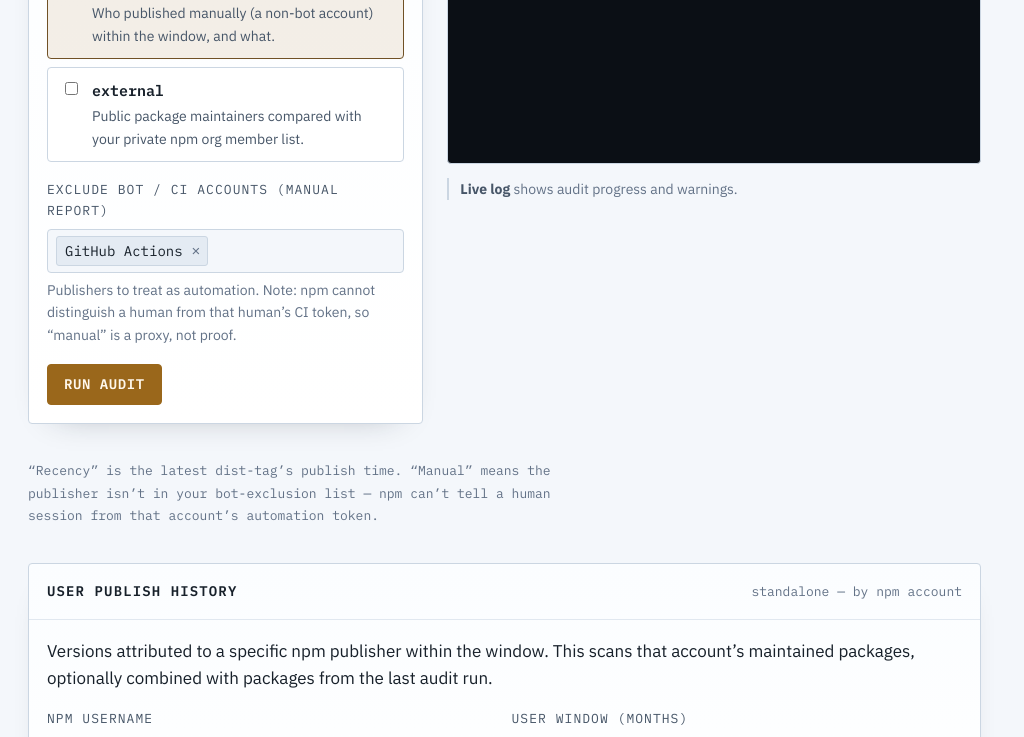
Test: App › validates required organizations before running
(page scrolled)
Click the button "Run audit". click: (104, 385)
box: [47,364,162,406]
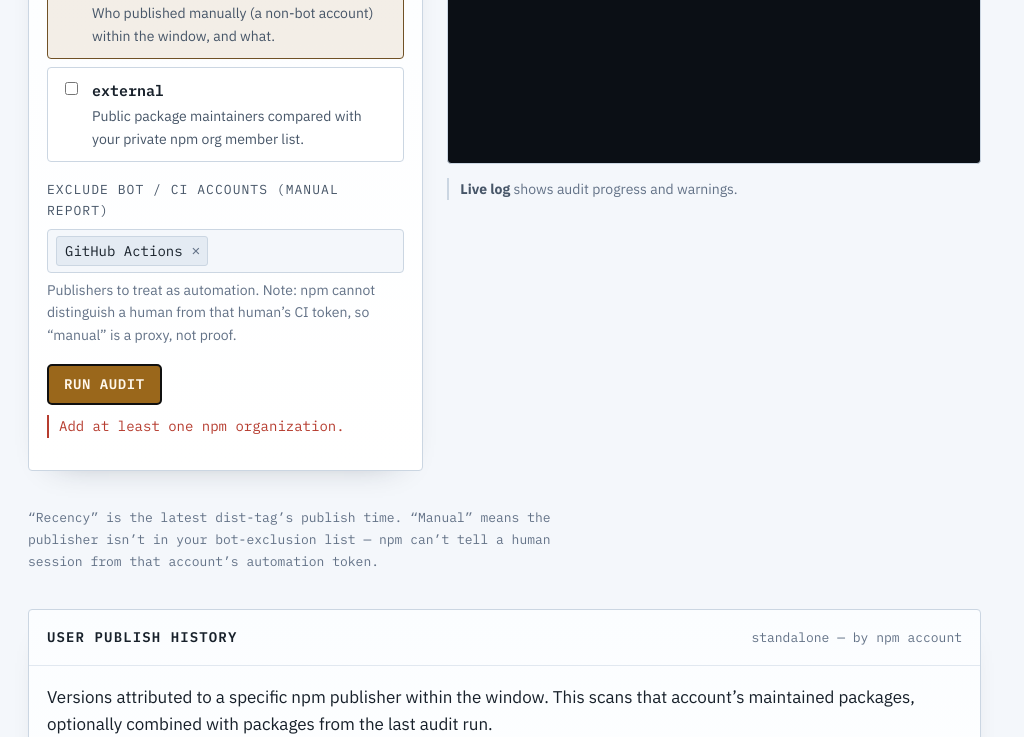
Now the message reads "Add at least one npm organization.", box [59,418,345,436]
